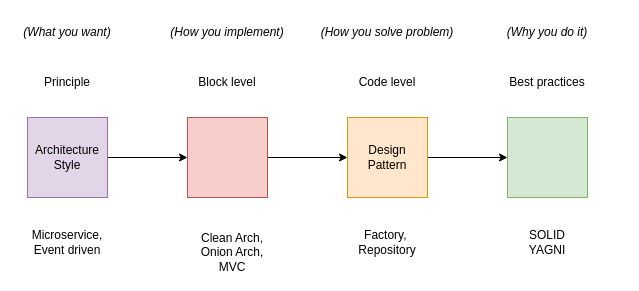
Image size: 639x291. Some labels were removed from this diagram. The centre of each missing label's shape, as x and y in pixels:
"Architecture Pattern" goes at pixel 227 157.
"Design Principle" goes at pixel 547 157.
